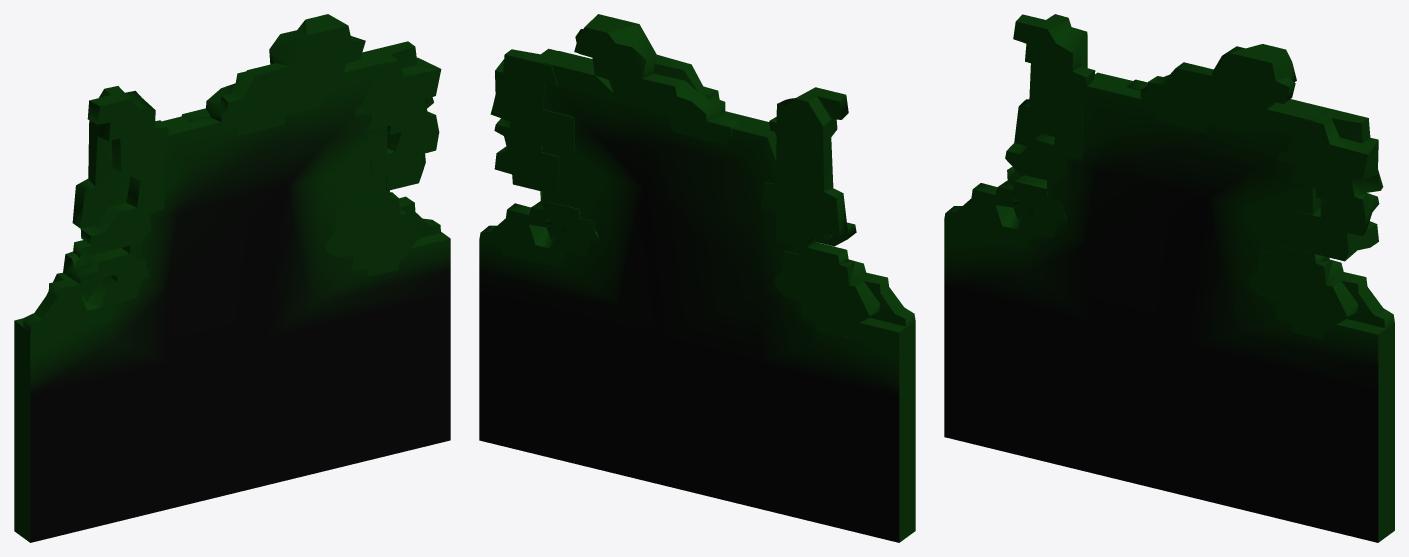
The model's file is DBK_Brick_Tile_D.fbx.
3 views of the same model, side by side, from view 1: azimuth 30°, elevation 25°; view 2: azimuth 150°, elevation 25°; view 3: azimuth 330°, elevation 25° (orthographic). The views are drawn at different scales.
Visible parts, largest first — view 1: DBK_Brick_Tile_D; view 2: DBK_Brick_Tile_D; view 3: DBK_Brick_Tile_D.
Part boxes in pixels (box(x1,y1,x2,y2)): DBK_Brick_Tile_D: box(14, 14, 450, 542); DBK_Brick_Tile_D: box(479, 14, 915, 542); DBK_Brick_Tile_D: box(944, 14, 1394, 542).
Size of the model in its own units: 300 by 300 by 21.05.
